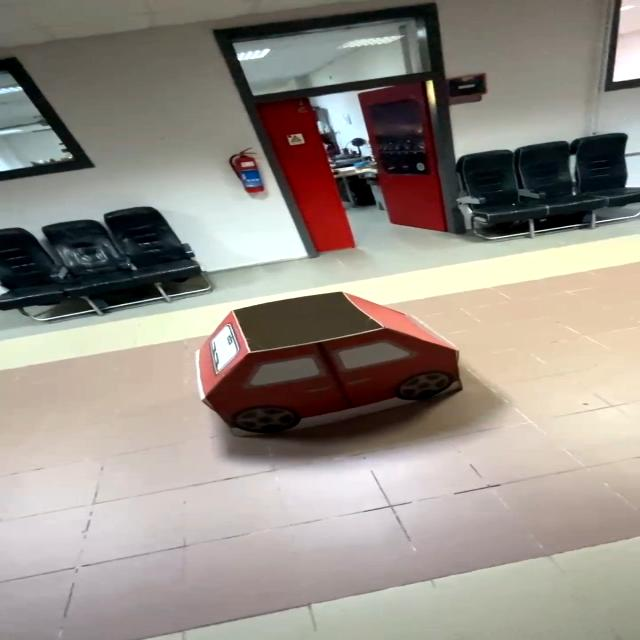red_car: (141, 282, 503, 451)
